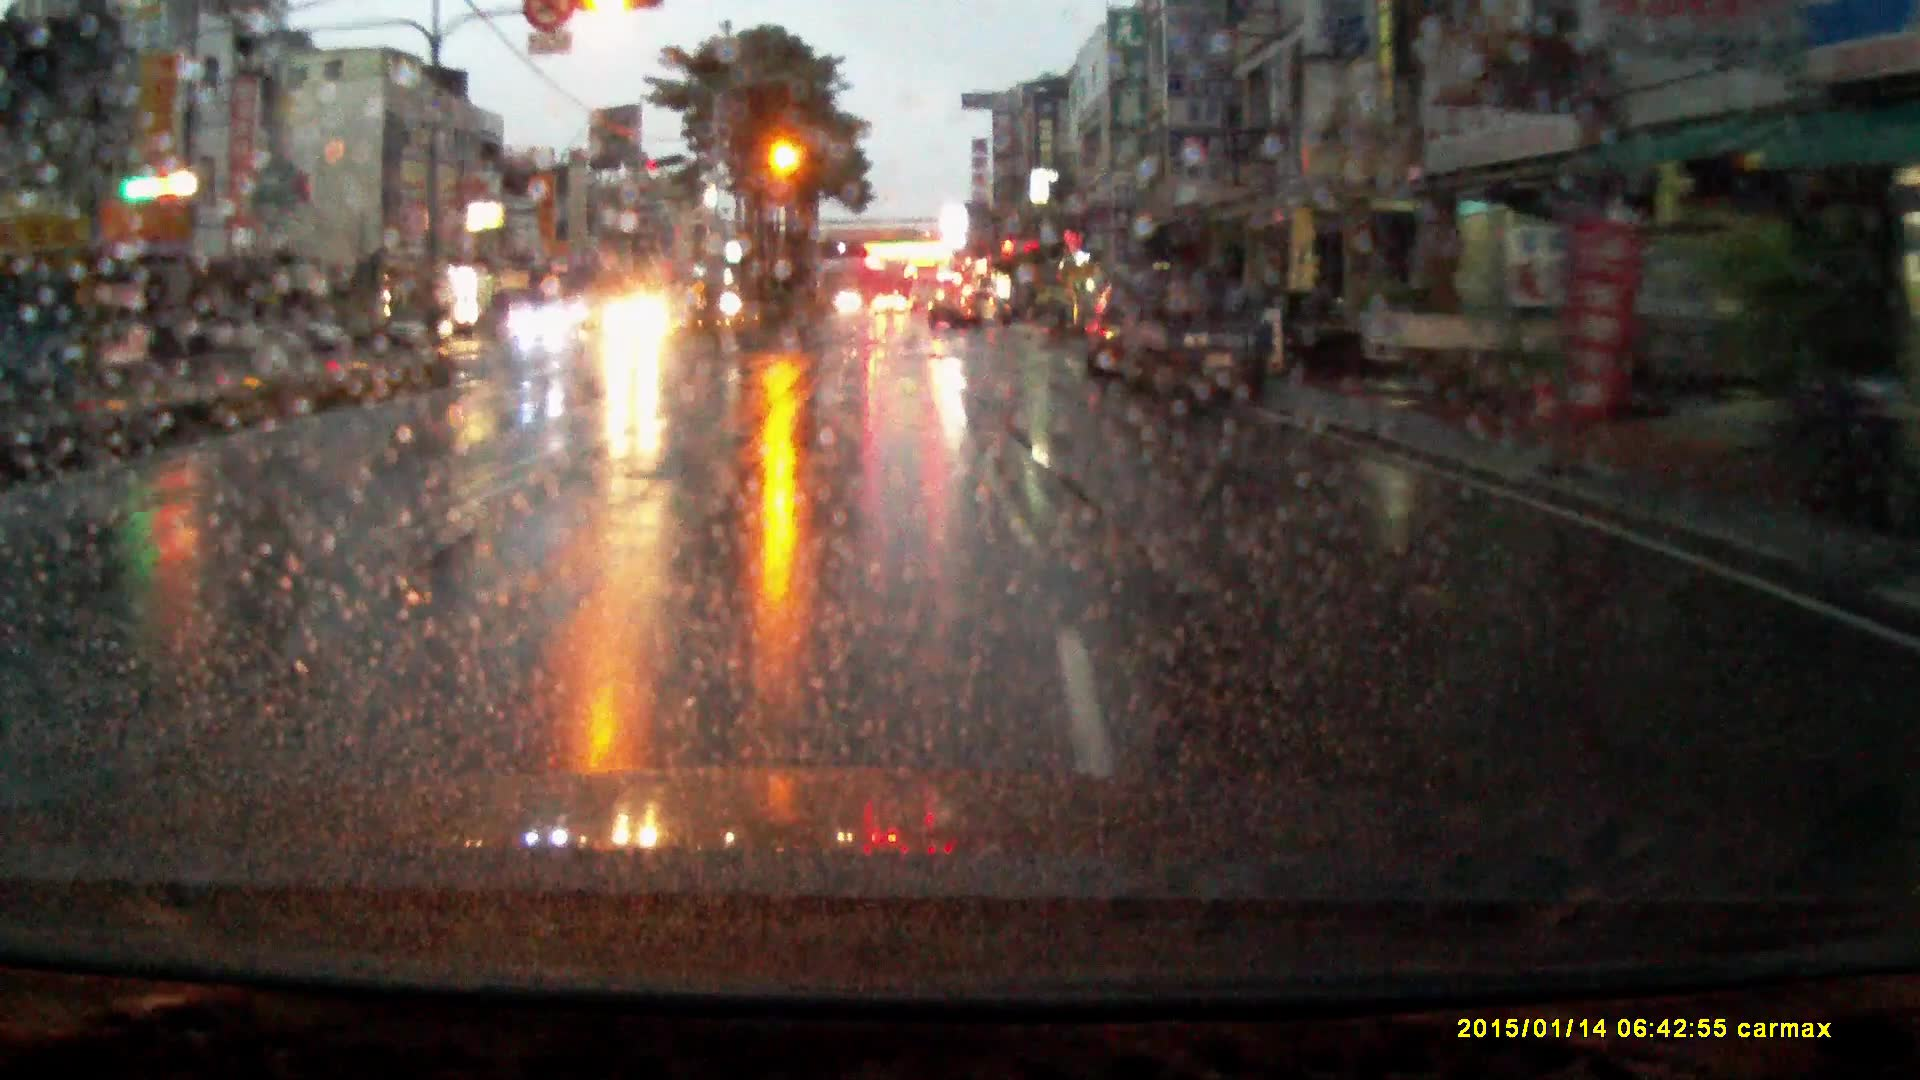vehicle: (1121, 262, 1273, 398), (1360, 309, 1578, 390), (175, 311, 295, 359), (599, 289, 676, 344), (1087, 276, 1127, 380), (276, 311, 355, 353), (928, 284, 998, 328), (388, 301, 452, 348), (516, 299, 578, 343), (911, 261, 945, 305), (873, 290, 910, 316)
